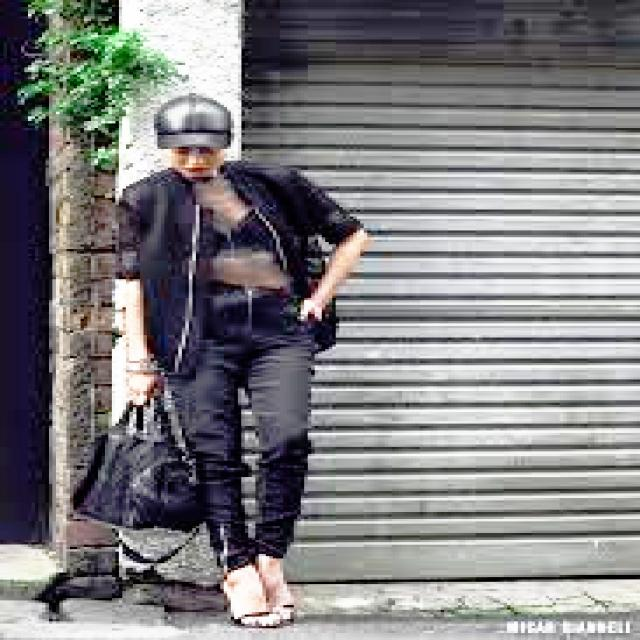TOPI: (140, 84, 238, 151)
